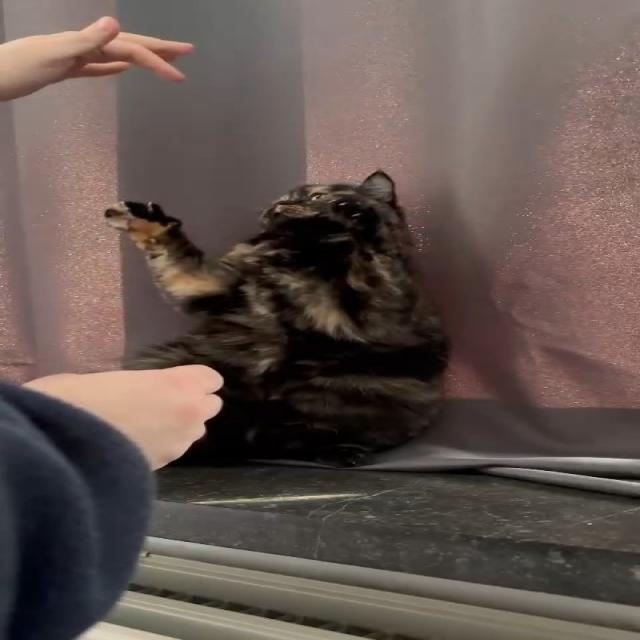authorized: (103, 168, 453, 468)
